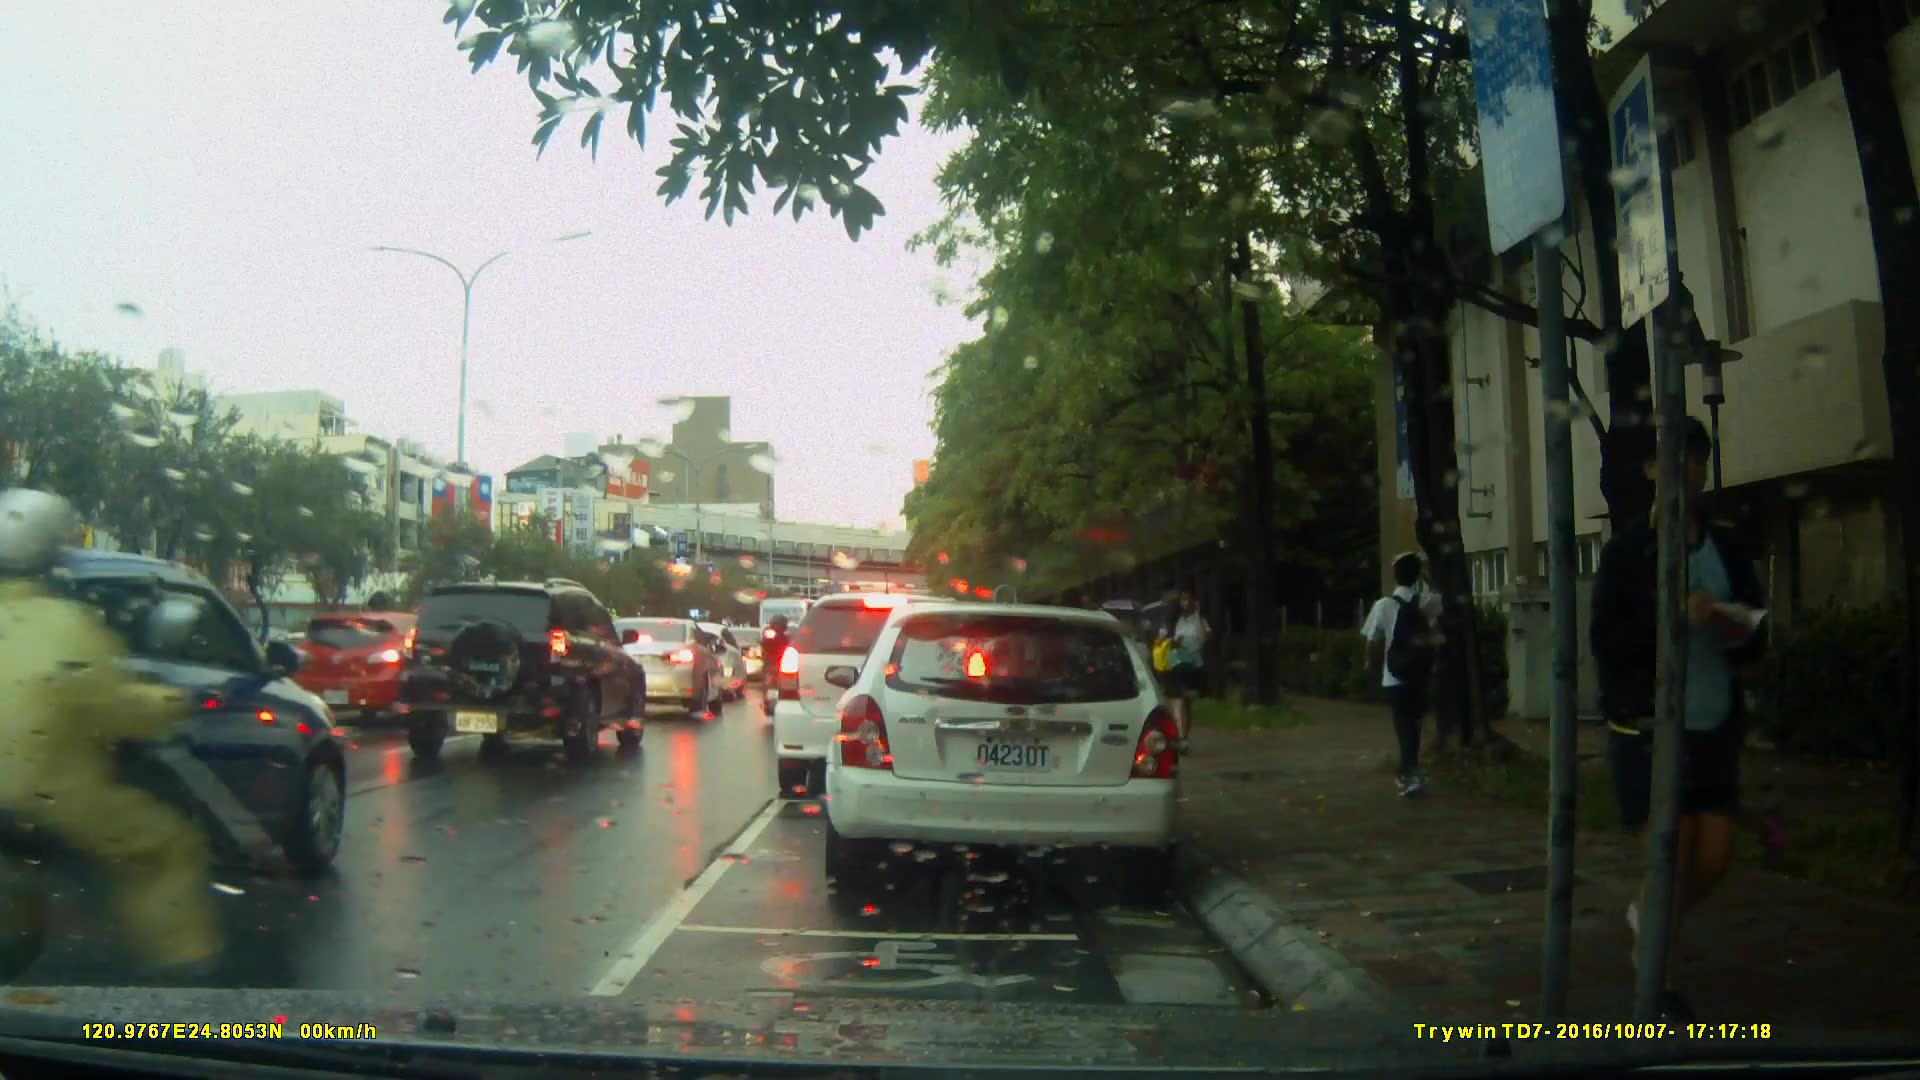pedestrian: (1624, 407, 1777, 996), (1348, 536, 1463, 799), (1153, 577, 1213, 746)
rider: (1, 488, 312, 1061), (751, 611, 795, 721)
vehicle: (4, 530, 352, 912), (815, 593, 1202, 903), (393, 576, 651, 769), (771, 590, 995, 802), (286, 610, 473, 724), (573, 614, 720, 726)
